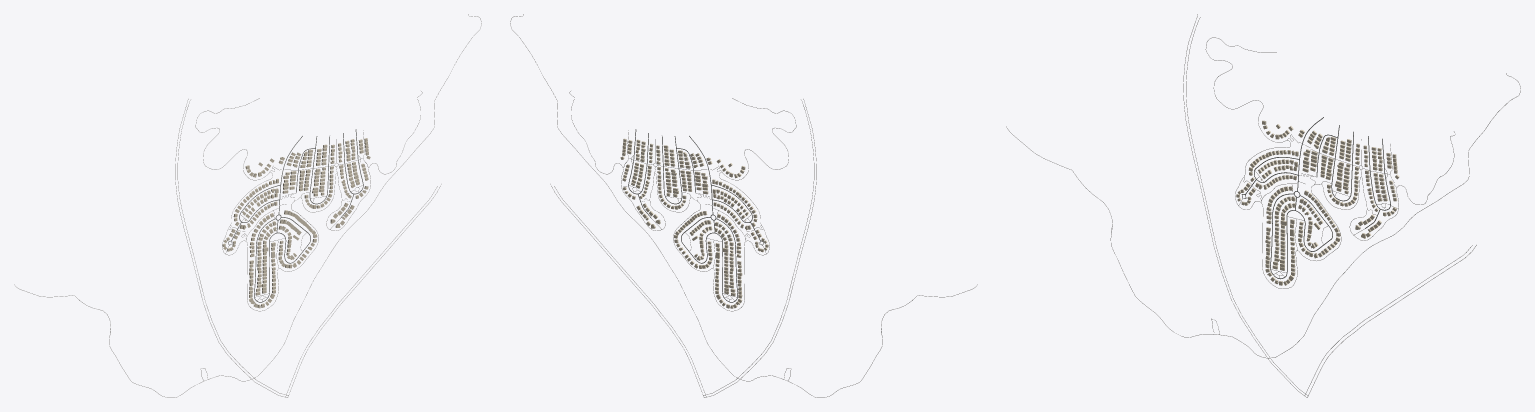
File: historic-palestine-06_18_3476_3122.glb
The picture shows the model from 3 angles, left to right: view 1: azimuth 30°, elevation 25°; view 2: azimuth 150°, elevation 25°; view 3: azimuth 330°, elevation 25°; orthographic projection. The views are drawn at different scales.
Parts seen in each view (by area): view 1: Road .035, Road .006; view 2: Road .035, Road .006; view 3: Road .035, Road .006.
Boxes of the visible parts, left/top/right/bottom form: Road .035: left=195, top=91, right=422, bottom=311; Road .006: left=14, top=14, right=481, bottom=397; Road .035: left=569, top=91, right=796, bottom=311; Road .006: left=510, top=14, right=977, bottom=397; Road .035: left=1205, top=37, right=1455, bottom=288; Road .006: left=1006, top=73, right=1520, bottom=358.
Bounding box in the file's own units: 2412 × 1676 × 8.7.
